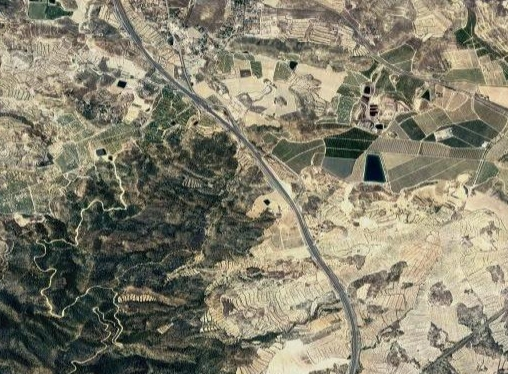motorway: (236, 133, 299, 212), (165, 73, 236, 134), (292, 211, 346, 291), (112, 1, 170, 73), (335, 292, 364, 374)
